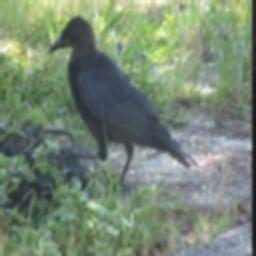Crow: (49, 14, 199, 193)
